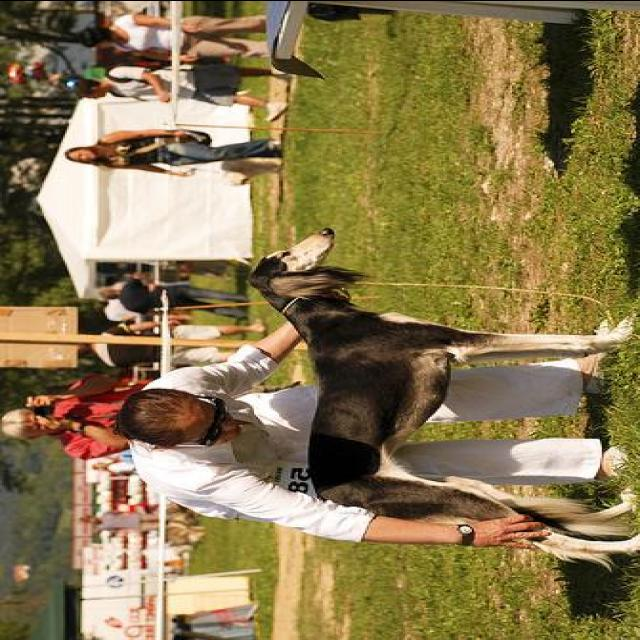saluki: (248, 228, 638, 571)
